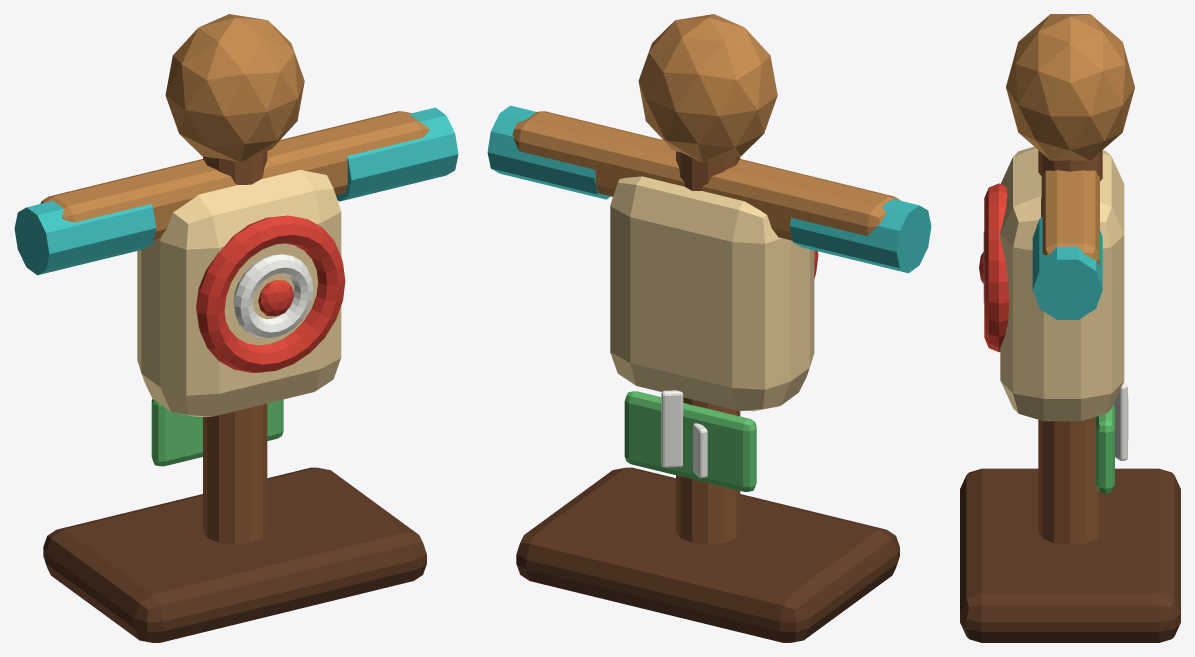
The model's file is grove_softwood_practice_dummy.glb.
3 views of the same model, side by side, from view 1: azimuth 30°, elevation 25°; view 2: azimuth 150°, elevation 25°; view 3: azimuth 270°, elevation 25° (orthographic).
Parts seen in each view (by area): view 1: Dummy_Base, Dummy_Torso, Dummy_Head, Dummy_Crossbar, Dummy_Target_Outer, Dummy_Post, Dummy_Arm_Pad_-0.65, Dummy_Arm_Pad_0.65, Dummy_Target_Inner, Dummy_Safe_Banner, Dummy_Target_Core; view 2: Dummy_Torso, Dummy_Base, Dummy_Head, Dummy_Crossbar, Dummy_Safe_Banner, Dummy_Arm_Pad_-0.65, Dummy_Post, Dummy_Arm_Pad_0.65, Dummy_Safe_Check_B, Dummy_Safe_Check_A; view 3: Dummy_Base, Dummy_Torso, Dummy_Head, Dummy_Post, Dummy_Crossbar, Dummy_Arm_Pad_0.65, Dummy_Target_Outer, Dummy_Safe_Banner, Dummy_Safe_Check_B.
Part boxes in pixels (x1,y1,x2,y2): Dummy_Base: [43, 467, 426, 642]; Dummy_Torso: [137, 169, 341, 416]; Dummy_Head: [165, 14, 304, 162]; Dummy_Crossbar: [40, 111, 429, 239]; Dummy_Target_Outer: [196, 215, 345, 372]; Dummy_Post: [203, 151, 267, 544]; Dummy_Arm_Pad_-0.65: [14, 201, 156, 275]; Dummy_Arm_Pad_0.65: [336, 107, 458, 201]; Dummy_Target_Inner: [233, 254, 313, 338]; Dummy_Safe_Banner: [151, 398, 283, 466]; Dummy_Target_Core: [258, 280, 293, 316]; Dummy_Torso: [610, 176, 814, 411]; Dummy_Base: [516, 467, 899, 642]; Dummy_Head: [638, 14, 777, 162]; Dummy_Crossbar: [512, 111, 900, 240]; Dummy_Safe_Banner: [624, 391, 756, 491]; Dummy_Arm_Pad_-0.65: [789, 199, 931, 273]; Dummy_Post: [676, 151, 740, 544]; Dummy_Arm_Pad_0.65: [487, 105, 610, 199]; Dummy_Safe_Check_B: [661, 390, 683, 467]; Dummy_Safe_Check_A: [693, 423, 707, 478]; Dummy_Base: [960, 468, 1180, 642]; Dummy_Torso: [1000, 146, 1124, 421]; Dummy_Head: [1006, 14, 1134, 160]; Dummy_Post: [1038, 150, 1102, 544]; Dummy_Crossbar: [1041, 170, 1099, 266]; Dummy_Arm_Pad_0.65: [1032, 217, 1102, 319]; Dummy_Target_Outer: [984, 183, 1009, 352]; Dummy_Safe_Banner: [1096, 404, 1114, 493]; Dummy_Safe_Check_B: [1113, 383, 1127, 460].
Size of the model in its own units: 1.76 by 2.31 by 0.82.
